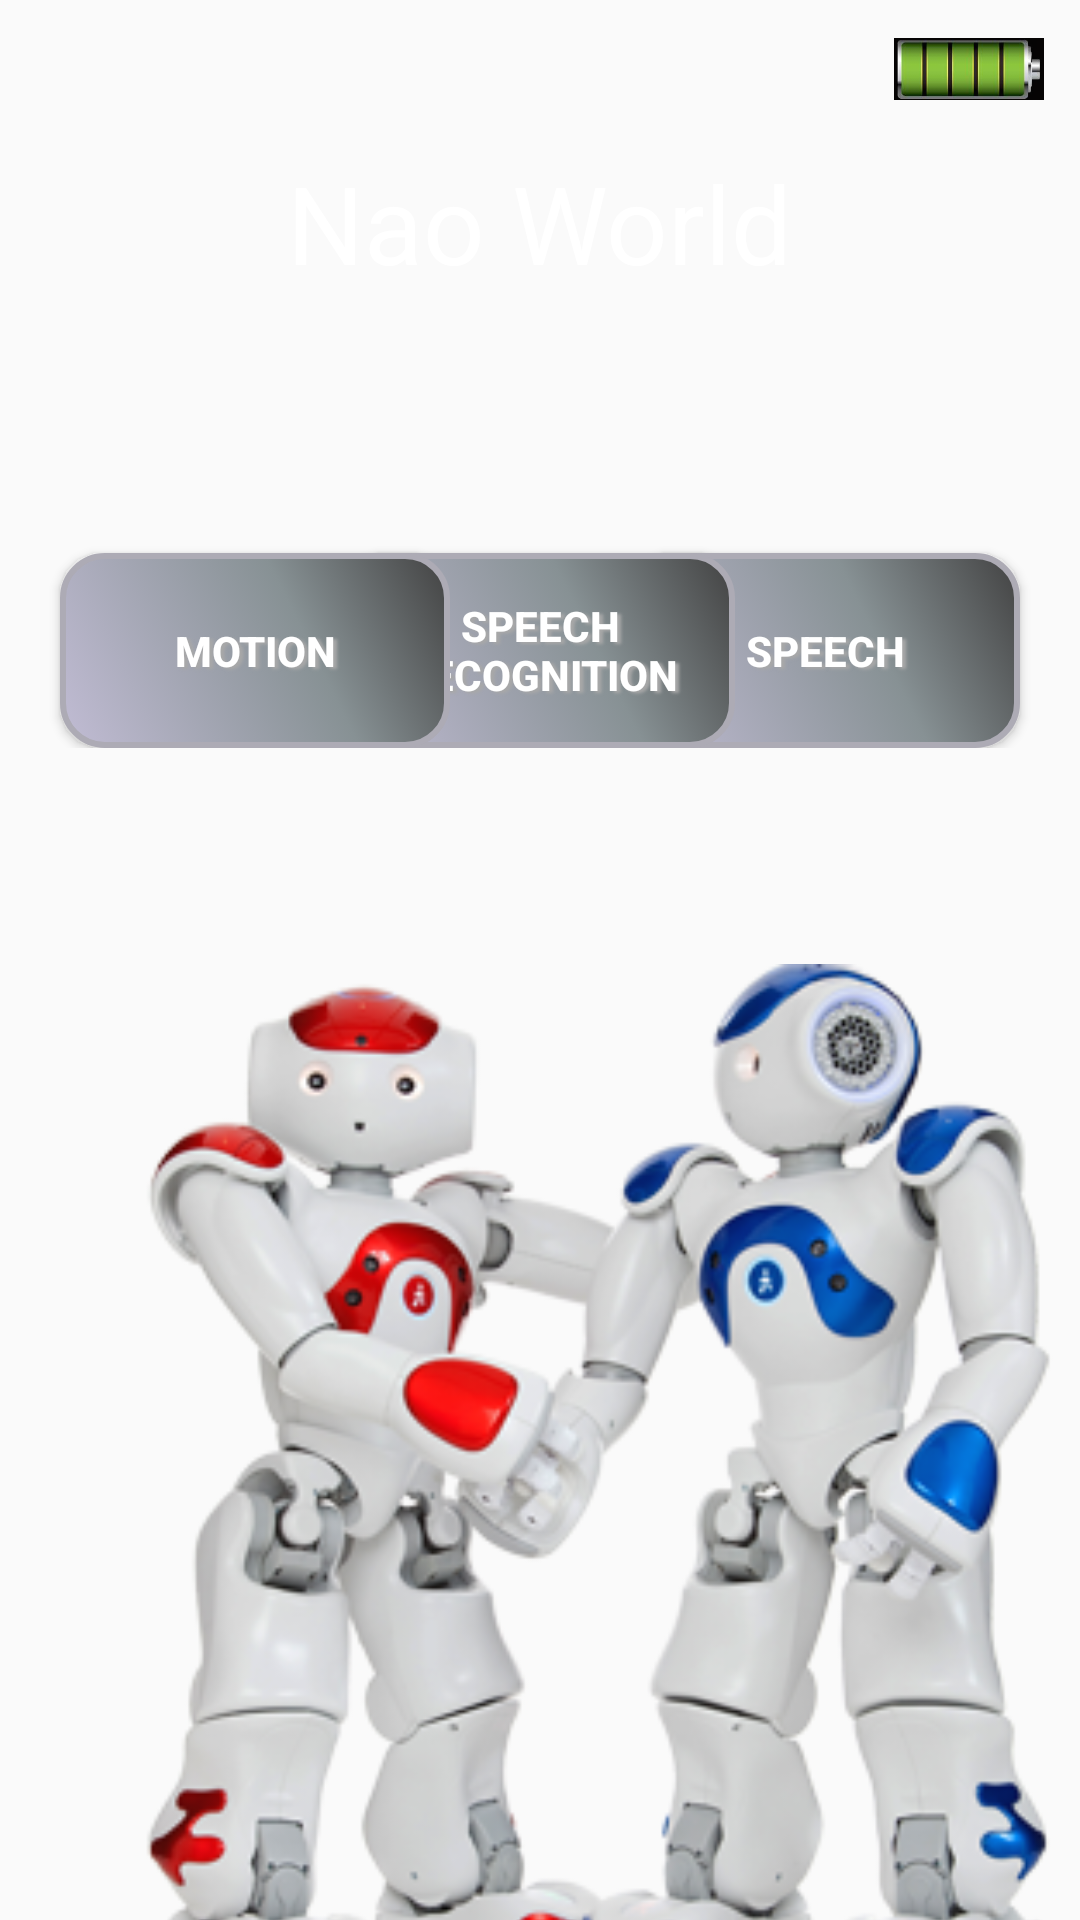

Locate icon controls on the screen. Image size 1080px×1920px, boxes as (x1, y1, x2, y2).
battery full: (894, 38, 1044, 100)
